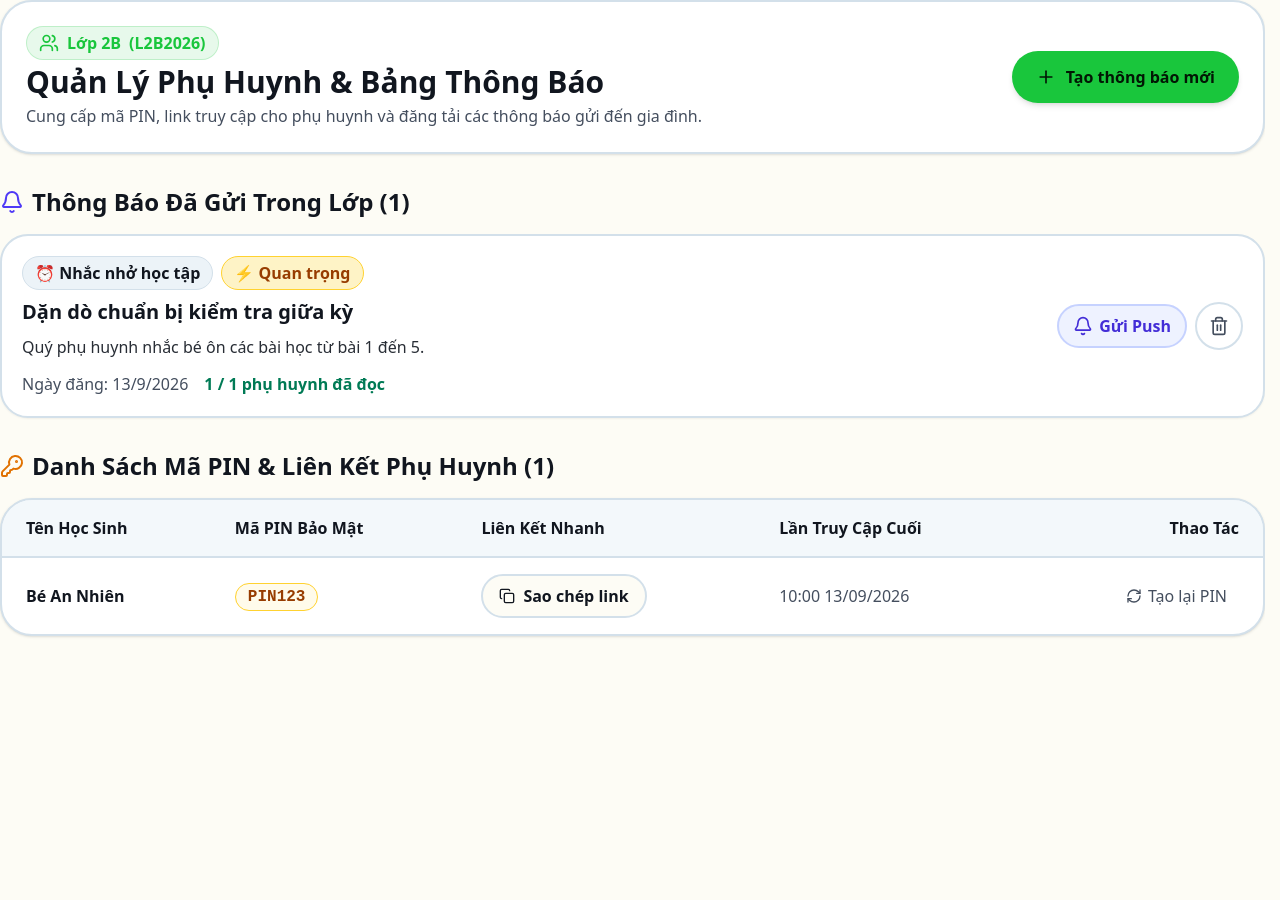
Push Notifications Shell & Parent/Teacher Integration › ParentAccessManager Integration › renders Web Push instant toggle inside announcement creation modal
Click the button "Tạo thông báo mới".
click(1125, 77)  # box 1012,51 -> 1239,103
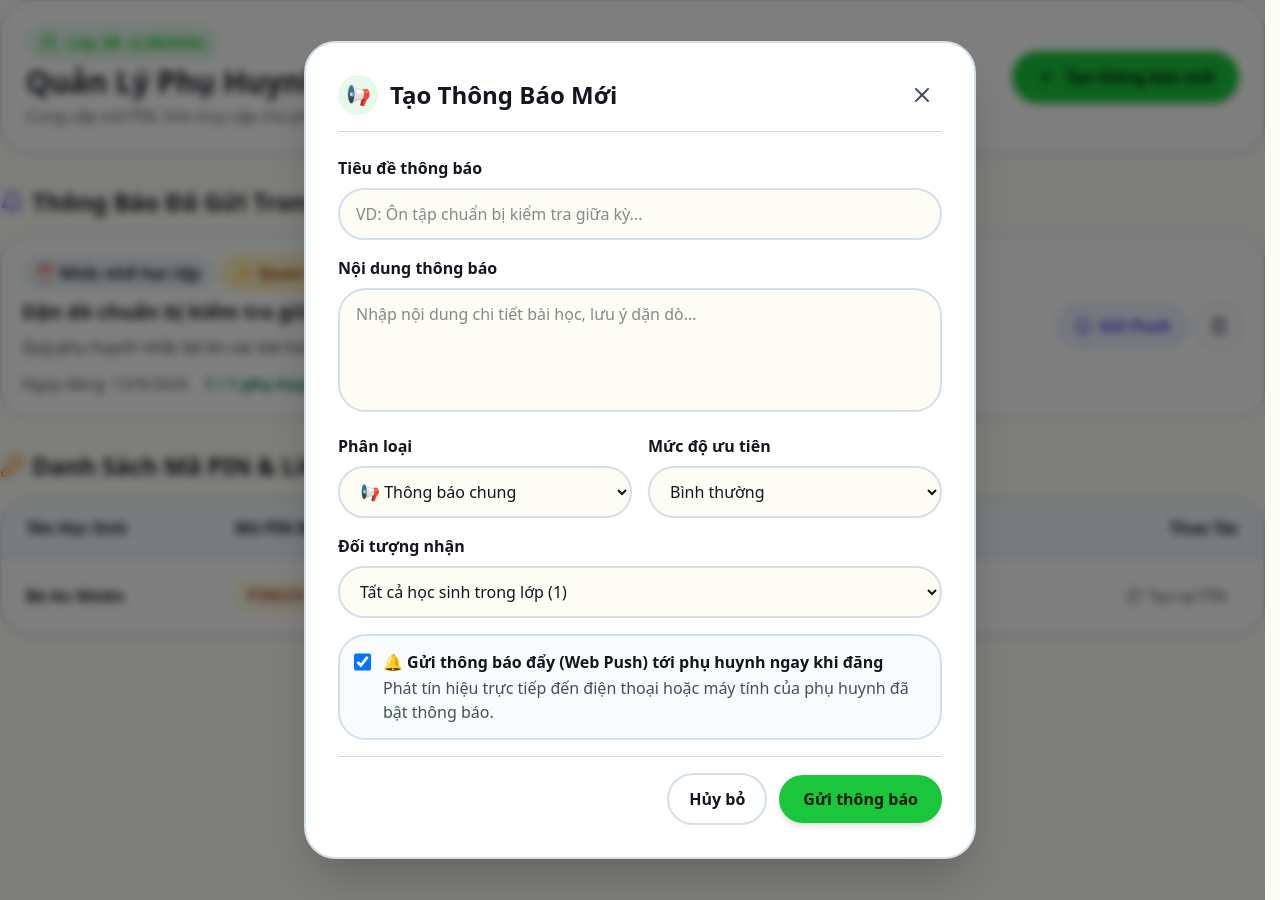
Expected: the text "🔔 Gửi thông báo đẩy (Web Push) tới phụ huynh ngay khi đăng" is shown, 383,650 -> 926,674
